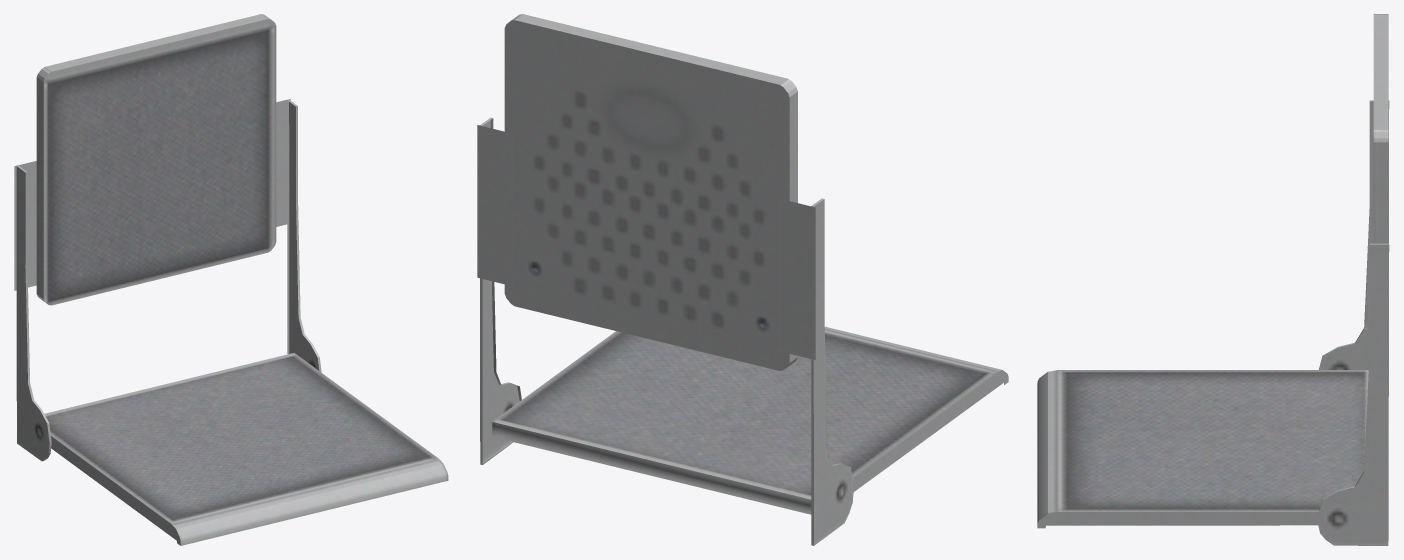
Rendered from Chair_01.FBX.
3 views of the same model, side by side, from view 1: azimuth 30°, elevation 25°; view 2: azimuth 150°, elevation 25°; view 3: azimuth 270°, elevation 25° (orthographic). The views are drawn at different scales.
Visible parts, largest first — view 1: Chair_01; view 2: Chair_01; view 3: Chair_01.
Part boxes in pixels (bbox=[...]): Chair_01: bbox=[14, 14, 448, 545]; Chair_01: bbox=[477, 14, 1008, 545]; Chair_01: bbox=[1037, 14, 1389, 545].
Bounding box in the file's own units: 0.5117 × 0.6545 × 0.52.
